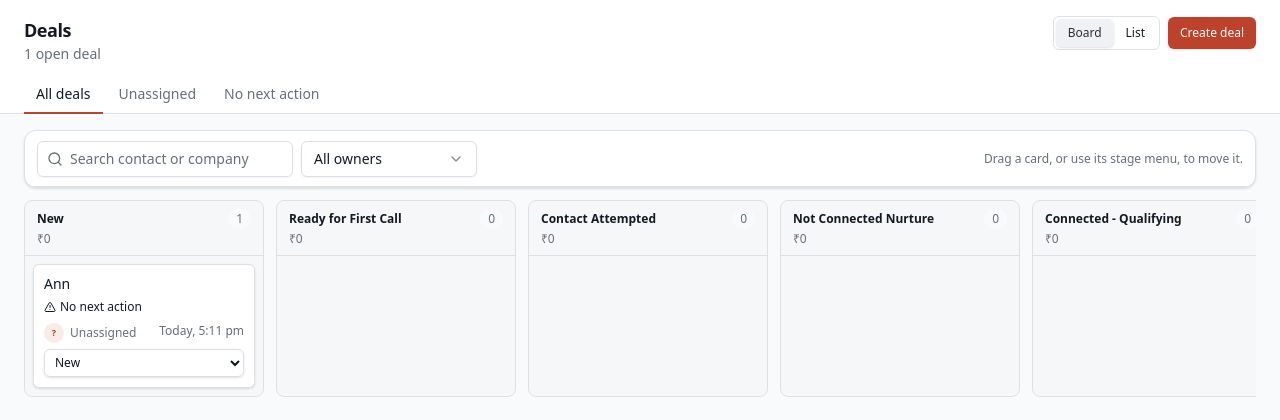
Test: deals board › list view shows every outcome
Step 1. Click the button "List" → (1135, 33), box left=1114, top=19, right=1157, bottom=47
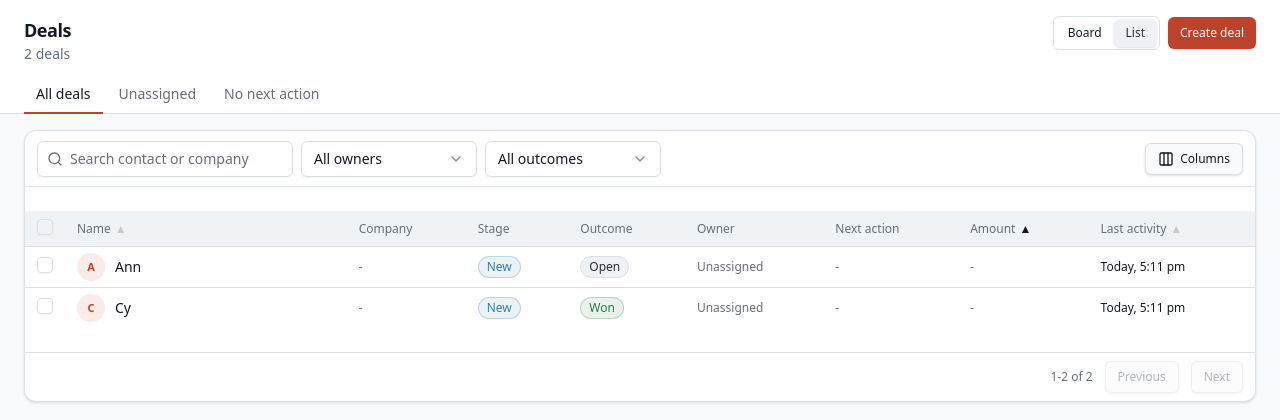
Expected: the link "Ann" is shown, left=115, top=257, right=141, bottom=277
Expected: the link "Cy" is shown, left=115, top=298, right=131, bottom=318
